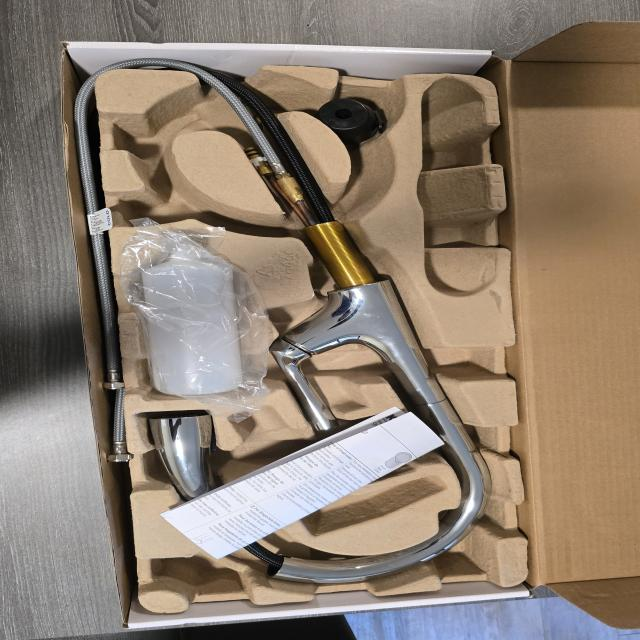1o: (148, 71, 494, 586)
2m: (227, 404, 445, 534)
3: (140, 233, 243, 395)
4m: (412, 76, 499, 297)
5: (316, 96, 383, 143)
6m: (117, 100, 201, 158)
7m: (118, 165, 246, 230)
8: (157, 404, 448, 561)
